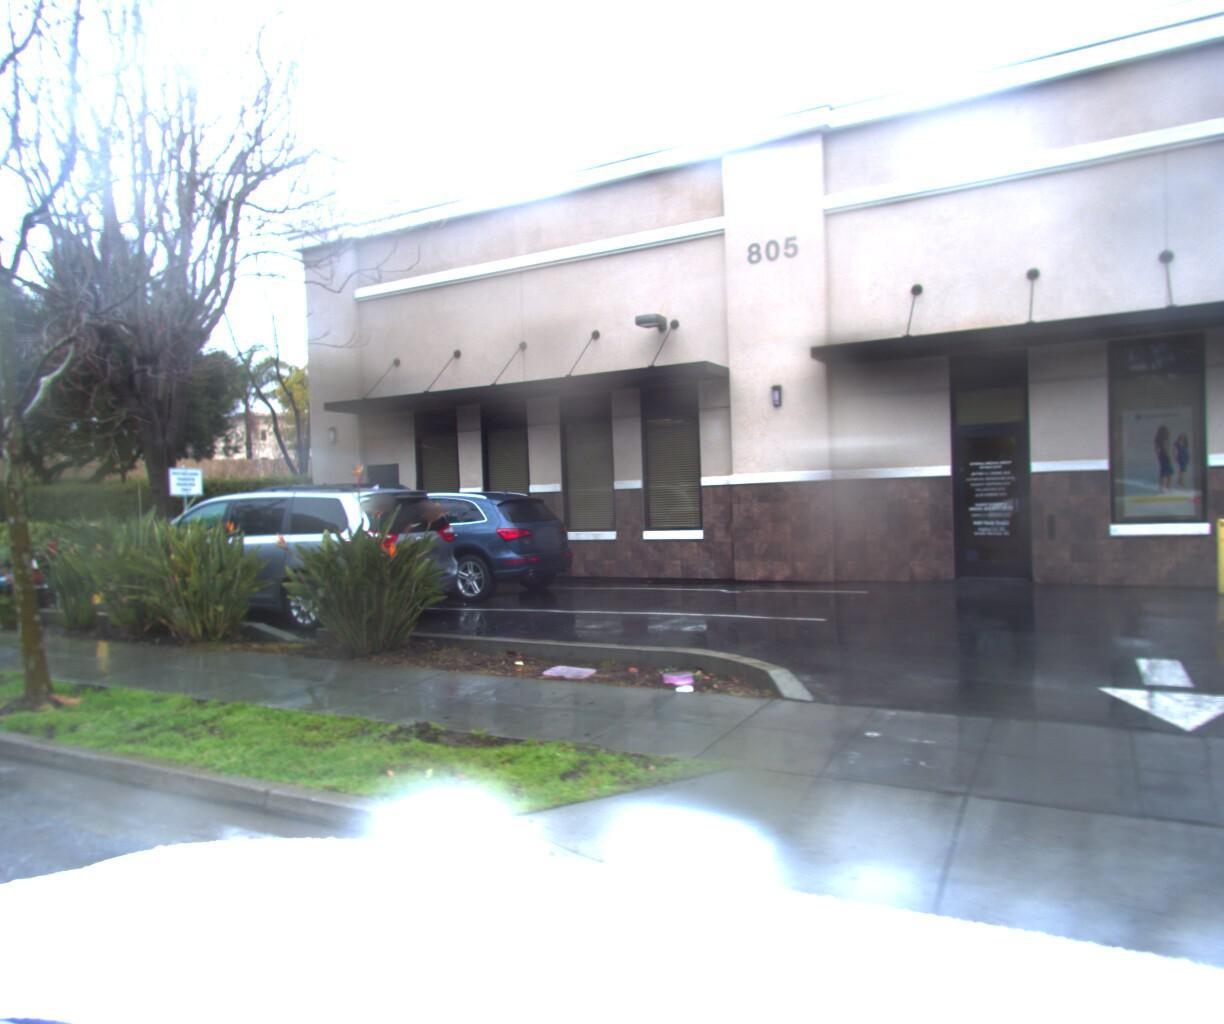car: (87, 474, 473, 633), (296, 485, 595, 604)
